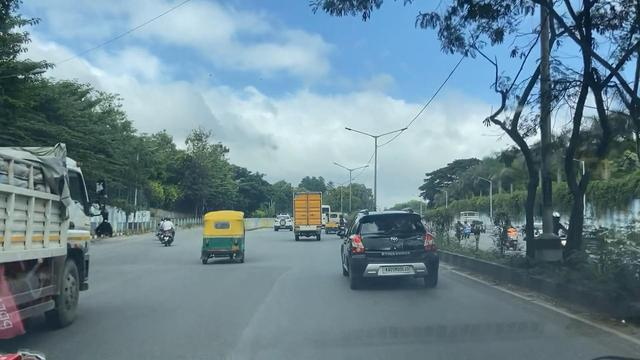HMV: (292, 192, 324, 242)
LMV: (341, 210, 439, 296), (204, 212, 245, 263)
